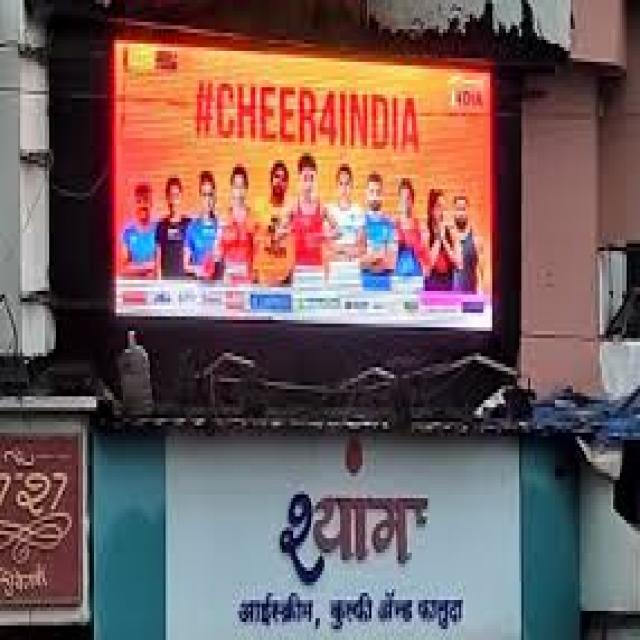Werbetafel frei: (112, 32, 517, 379)
